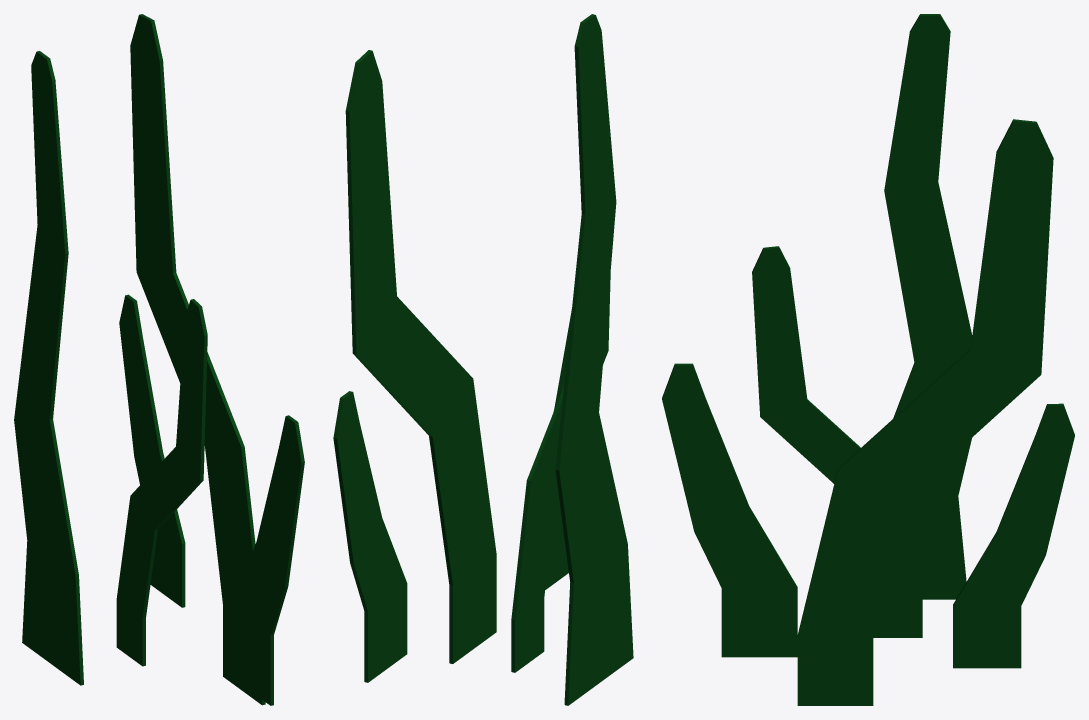
File: algae.fbx
3 views of the same model, side by side, from view 1: azimuth 30°, elevation 25°; view 2: azimuth 150°, elevation 25°; view 3: azimuth 270°, elevation 25° (orthographic). The views are drawn at different scales.
Parts seen in each view (by area): view 1: algae; view 2: algae; view 3: algae.
Boxes of the visible parts, x1=… form: algae: x1=14, y1=14, x2=304, y2=705; algae: x1=333, y1=14, x2=633, y2=705; algae: x1=662, y1=14, x2=1074, y2=705.
Size of the model in its own units: 92 by 360 by 218.
